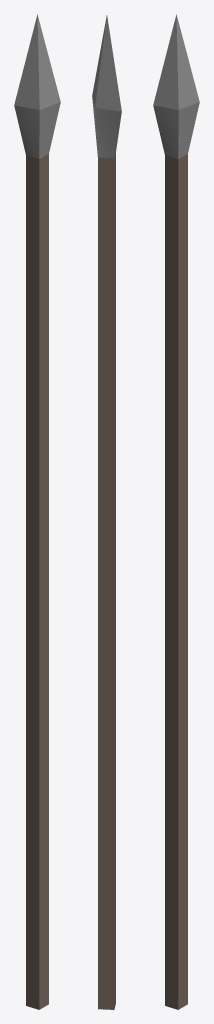
The model's file is ASA.fbx.
The picture shows the model from 3 angles, left to right: view 1: azimuth 90°, elevation 25°; view 2: azimuth 210°, elevation 25°; view 3: azimuth 270°, elevation 25°; orthographic projection.
Visible parts, largest first — view 1: Model; view 2: Model; view 3: Model.
Boxes of the visible parts, x1,y1,x2,y2 form: Model: (14, 14, 60, 1009); Model: (92, 15, 121, 1009); Model: (153, 14, 199, 1009).
Size of the model in its own units: 2.15 by 77.96 by 3.33.
